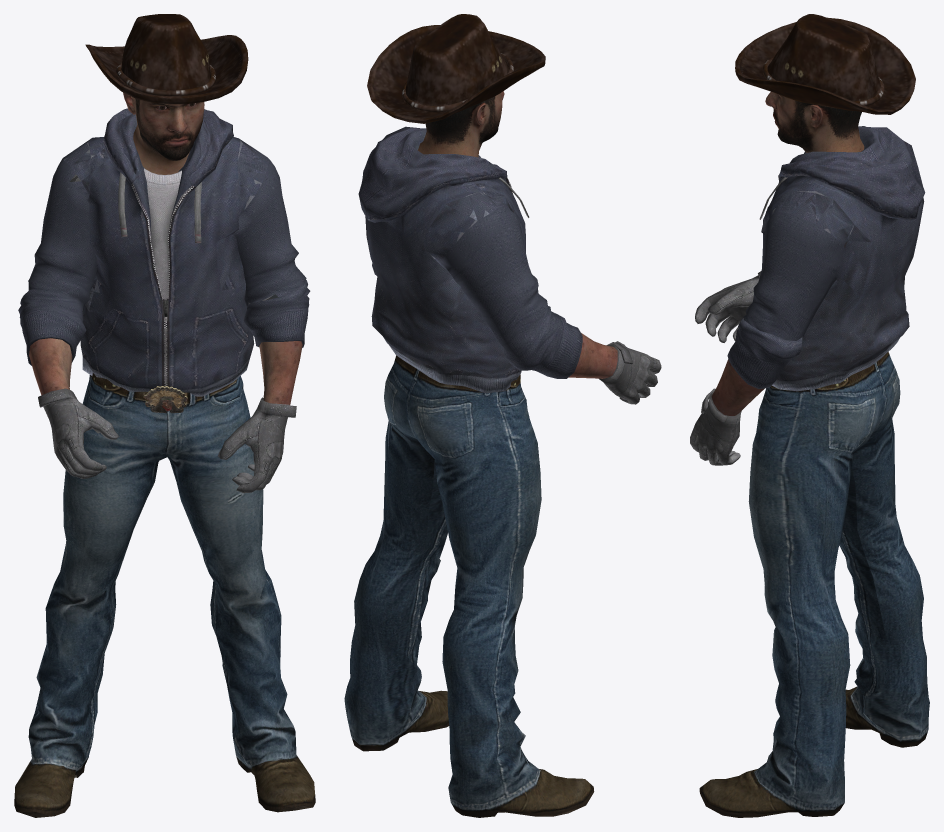
Rendered from bandit.obj.
The picture shows the model from 3 angles, left to right: view 1: azimuth 30°, elevation 25°; view 2: azimuth 150°, elevation 25°; view 3: azimuth 270°, elevation 25°; orthographic projection. The views are drawn at different scales.
Parts seen in each view (by area): view 1: bandit_ID12, bandit_ID190, bandit_ID245, bandit_ID235, bandit_ID53, bandit_ID130, bandit_ID115, bandit_ID312, bandit_ID140, bandit_ID225, bandit_ID392, bandit_ID210 (+4 smaller); view 2: bandit_ID12, bandit_ID190, bandit_ID245, bandit_ID312, bandit_ID292, bandit_ID53, bandit_ID130, bandit_ID210, bandit_ID392, bandit_ID322, bandit_ID442; view 3: bandit_ID12, bandit_ID190, bandit_ID235, bandit_ID392, bandit_ID53, bandit_ID322, bandit_ID115, bandit_ID130, bandit_ID275, bandit_ID225, bandit_ID292, bandit_ID312.
Boxes of the visible parts, bbox=[...] form: bandit_ID12: bbox=[14, 373, 315, 817]; bandit_ID190: bbox=[63, 108, 269, 396]; bandit_ID245: bbox=[18, 158, 96, 365]; bandit_ID235: bbox=[234, 160, 310, 347]; bandit_ID53: bbox=[123, 92, 204, 174]; bandit_ID130: bbox=[38, 388, 119, 478]; bandit_ID115: bbox=[218, 397, 296, 493]; bandit_ID312: bbox=[121, 14, 179, 90]; bandit_ID140: bbox=[144, 168, 181, 298]; bandit_ID225: bbox=[259, 341, 302, 404]; bandit_ID392: bbox=[158, 14, 210, 89]; bandit_ID210: bbox=[29, 338, 72, 395]; bandit_ID12: bbox=[344, 355, 594, 817]; bandit_ID190: bbox=[358, 126, 525, 393]; bandit_ID245: bbox=[441, 205, 582, 378]; bandit_ID312: bbox=[417, 16, 509, 112]; bandit_ID292: bbox=[367, 25, 522, 114]; bandit_ID53: bbox=[418, 91, 504, 157]; bandit_ID130: bbox=[599, 341, 661, 404]; bandit_ID210: bbox=[568, 333, 617, 378]; bandit_ID392: bbox=[403, 14, 476, 104]; bandit_ID322: bbox=[393, 41, 545, 120]; bandit_ID442: bbox=[393, 58, 545, 123]; bandit_ID12: bbox=[699, 352, 929, 817]; bandit_ID190: bbox=[761, 126, 925, 391]; bandit_ID235: bbox=[727, 212, 844, 388]; bandit_ID392: bbox=[767, 19, 877, 105]; bandit_ID53: bbox=[765, 91, 864, 152]; bandit_ID322: bbox=[739, 17, 915, 99]; bandit_ID115: bbox=[690, 388, 741, 465]; bandit_ID130: bbox=[695, 271, 761, 342]; bandit_ID275: bbox=[735, 68, 909, 114]; bandit_ID225: bbox=[711, 359, 764, 415]; bandit_ID292: bbox=[735, 54, 909, 111]; bandit_ID312: bbox=[799, 14, 884, 91].
Size of the model in its own units: 0.8168 by 2.24 by 0.6501.
9 materials, 9 textured.
